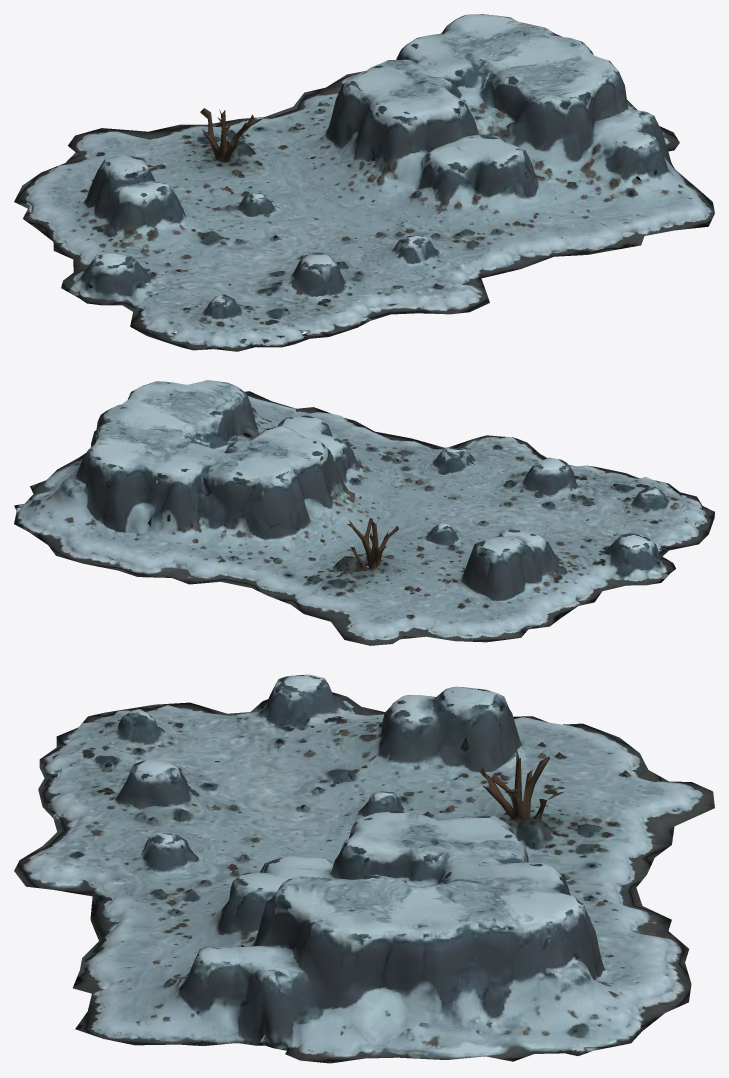
File: snow-ground-6.glb
3 renders of one model, top to bottom at view 1: azimuth 30°, elevation 25°; view 2: azimuth 150°, elevation 25°; view 3: azimuth 270°, elevation 25°, orthographic. The views are drawn at different scales.
Parts seen in each view (by area): view 1: geometry_0; view 2: geometry_0; view 3: geometry_0.
Part boxes in pixels (bbox=[...]): geometry_0: bbox=[14, 14, 714, 351]; geometry_0: bbox=[14, 380, 714, 645]; geometry_0: bbox=[14, 674, 714, 1063].
Bounding box in the file's own units: 0.9725 × 0.1475 × 0.7576.
Materials: 1 (1 with a texture image).
